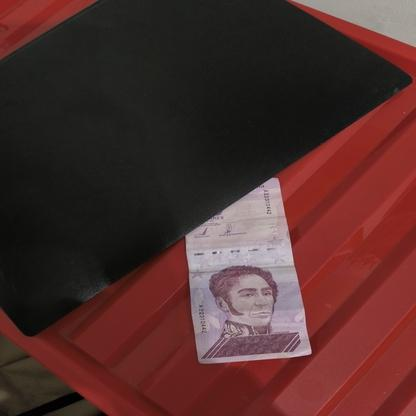one_hundred-front-vef: (184, 176, 312, 364)
